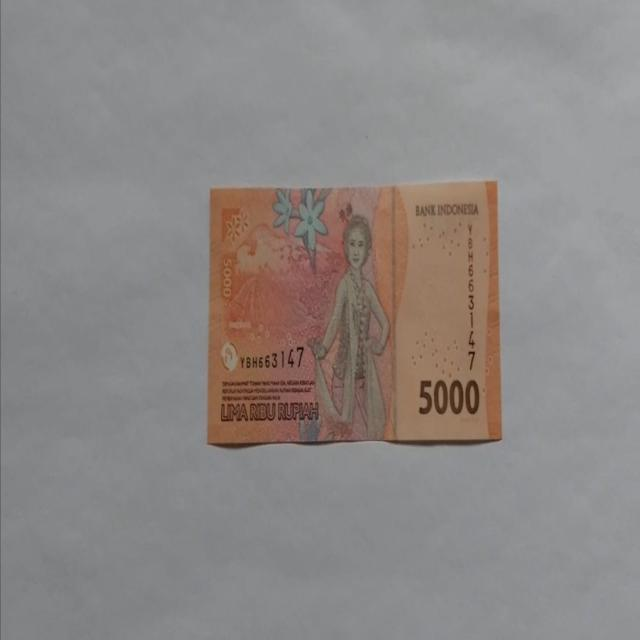lima ribu rupiah: (206, 178, 502, 448), (306, 214, 392, 441)
